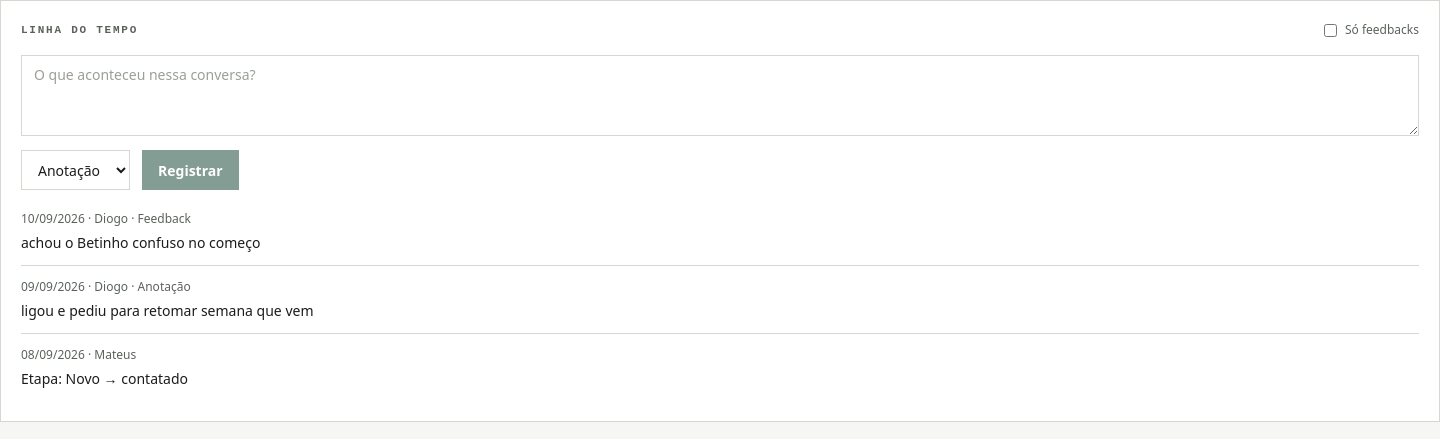
Test case: LinhaDoTempo › dá para ver só os feedbacks
Click the checkbox labelled "Só feedbacks".
click(1330, 30)  # box [1324, 24, 1337, 36]
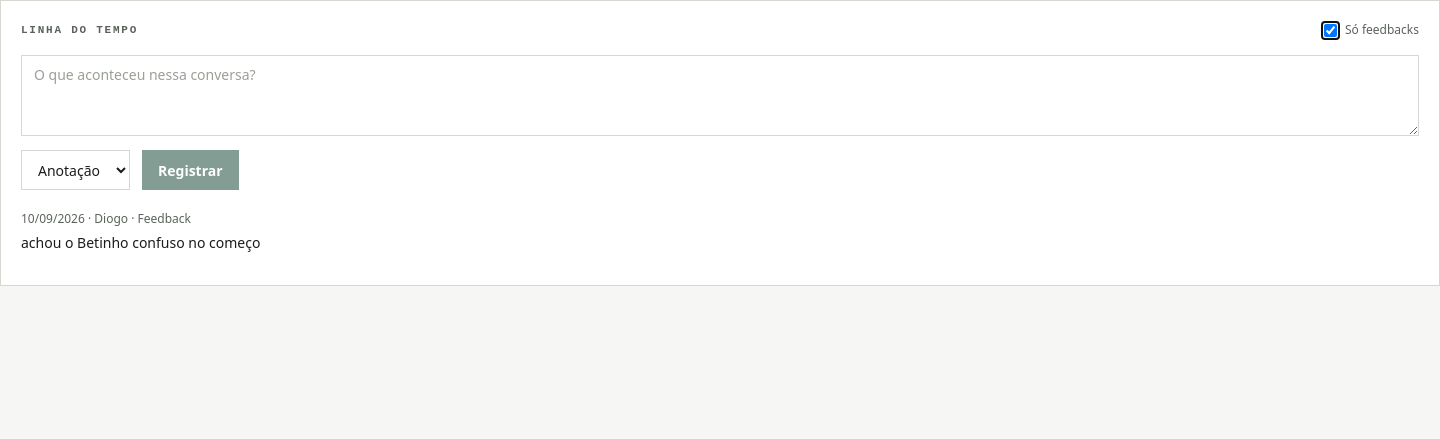
Expected: the text "achou o Betinho confuso no começo" is shown, [21, 233, 260, 252]
Expected: the text "pediu para retomar" is gone
Expected: the text "Etapa: Novo → contatado" is gone
